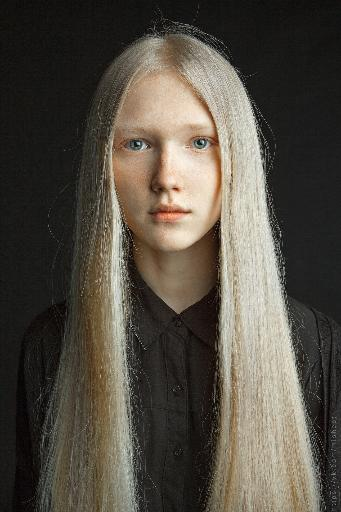left_eye: (187, 137, 217, 155)
left_lip_corner: (186, 205, 197, 221)
right_eye: (122, 138, 155, 156)
right_lip_corner: (146, 207, 156, 222)
